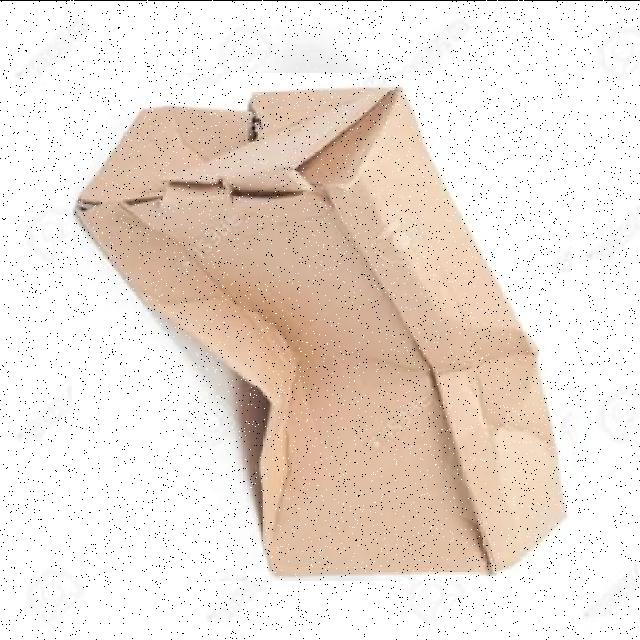defect: (72, 72, 572, 580)
